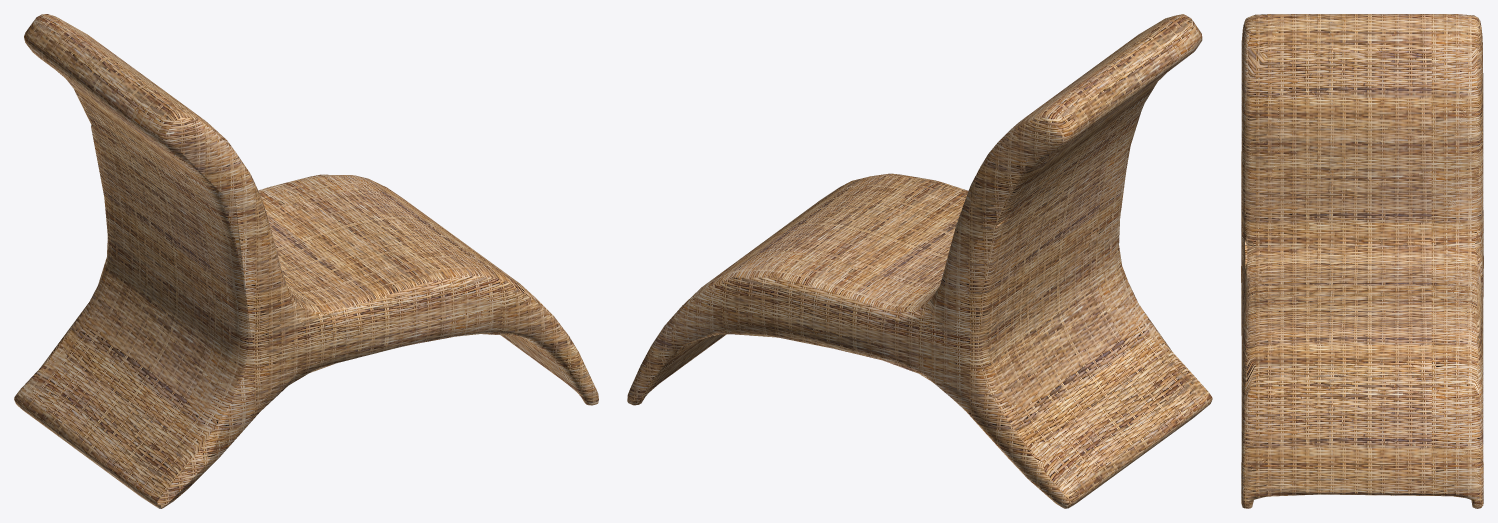
The model's file is Deckchair.FBX.
The picture shows the model from 3 angles, left to right: view 1: azimuth 30°, elevation 25°; view 2: azimuth 150°, elevation 25°; view 3: azimuth 270°, elevation 25°; orthographic projection. The views are drawn at different scales.
Parts seen in each view (by area): view 1: deckchair; view 2: deckchair; view 3: deckchair.
Part boxes in pixels (<box>): deckchair: <box>14,14,598,508</box>; deckchair: <box>627,14,1212,508</box>; deckchair: <box>1241,14,1483,508</box>.
Size of the model in its own units: 108 by 90.88 by 61.34.
Materials: 1 (1 with a texture image).
